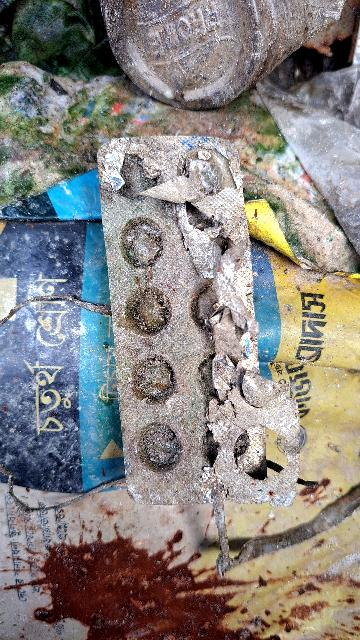medicine: (92, 135, 302, 505)
